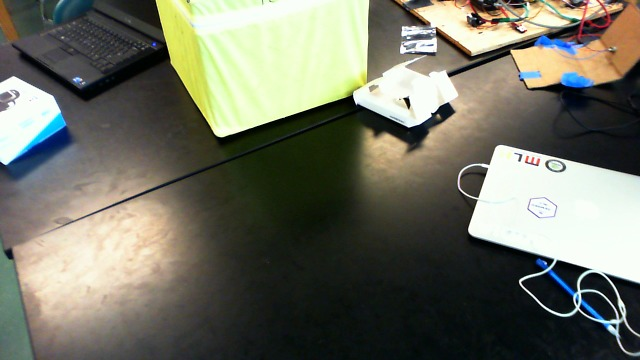cube: (152, 1, 369, 140)
